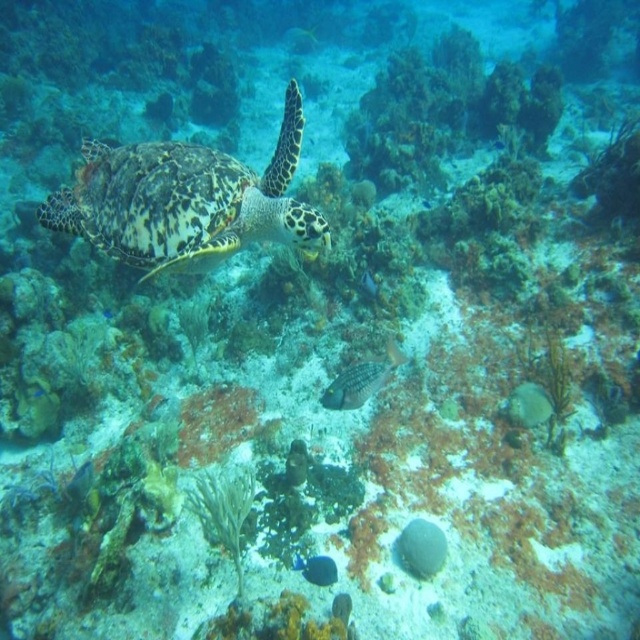Sea turtle: (31, 74, 329, 288)
